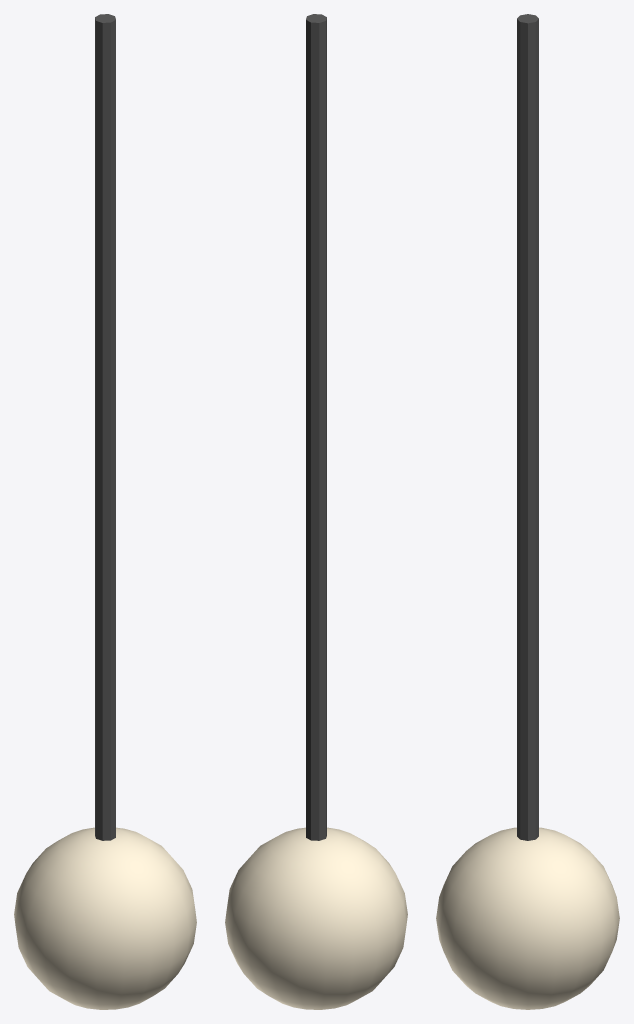
Rendered from bare_bulb.fbx.
3 renders of one model, left to right at view 1: azimuth 30°, elevation 25°; view 2: azimuth 150°, elevation 25°; view 3: azimuth 270°, elevation 25°, orthographic.
Visible parts, largest first — view 1: bare_bulb; view 2: bare_bulb; view 3: bare_bulb.
Boxes of the visible parts, left/top/right/bottom form: bare_bulb: left=14, top=14, right=196, bottom=1009; bare_bulb: left=225, top=14, right=407, bottom=1009; bare_bulb: left=436, top=14, right=619, bottom=1009.
Size of the model in its own units: 0.1 by 0.59 by 0.1.
